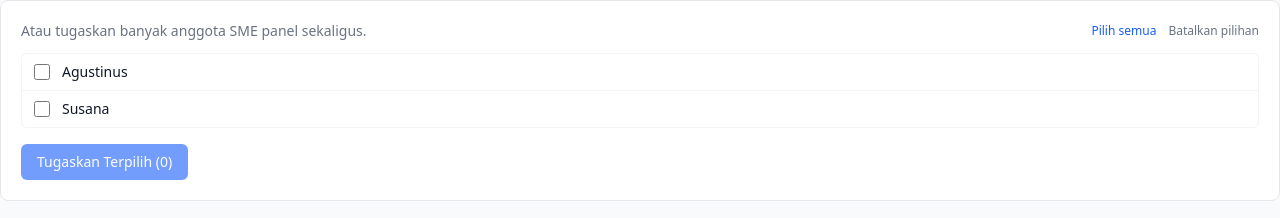
Test case: AssignRespondenBanyak (Task Inventory) › batalkan pilihan mengosongkan seleksi
The image size is (1280, 218).
Click the button "Pilih semua" at (1124, 31), box [1091,23,1156,39]
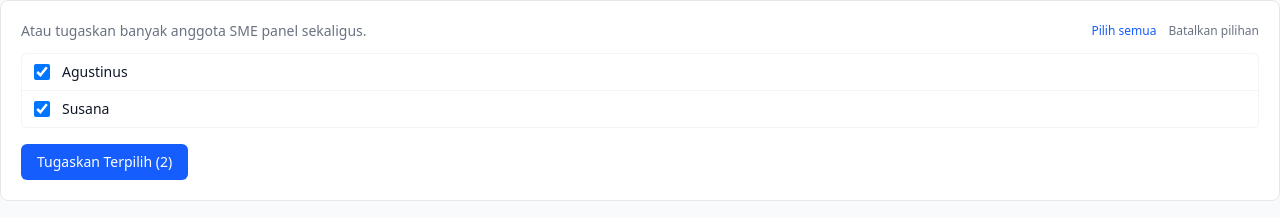
Click the button "Batalkan pilihan" at (1214, 31), box [1168,23,1259,39]
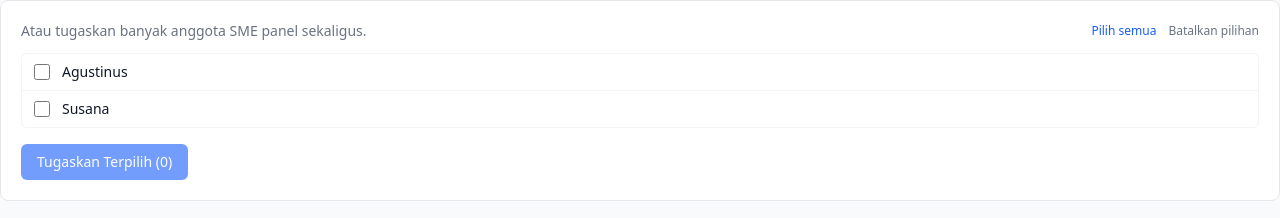
expect the button "Tugaskan Terpilih (0)" is disabled: met, box [21,144,188,180]
